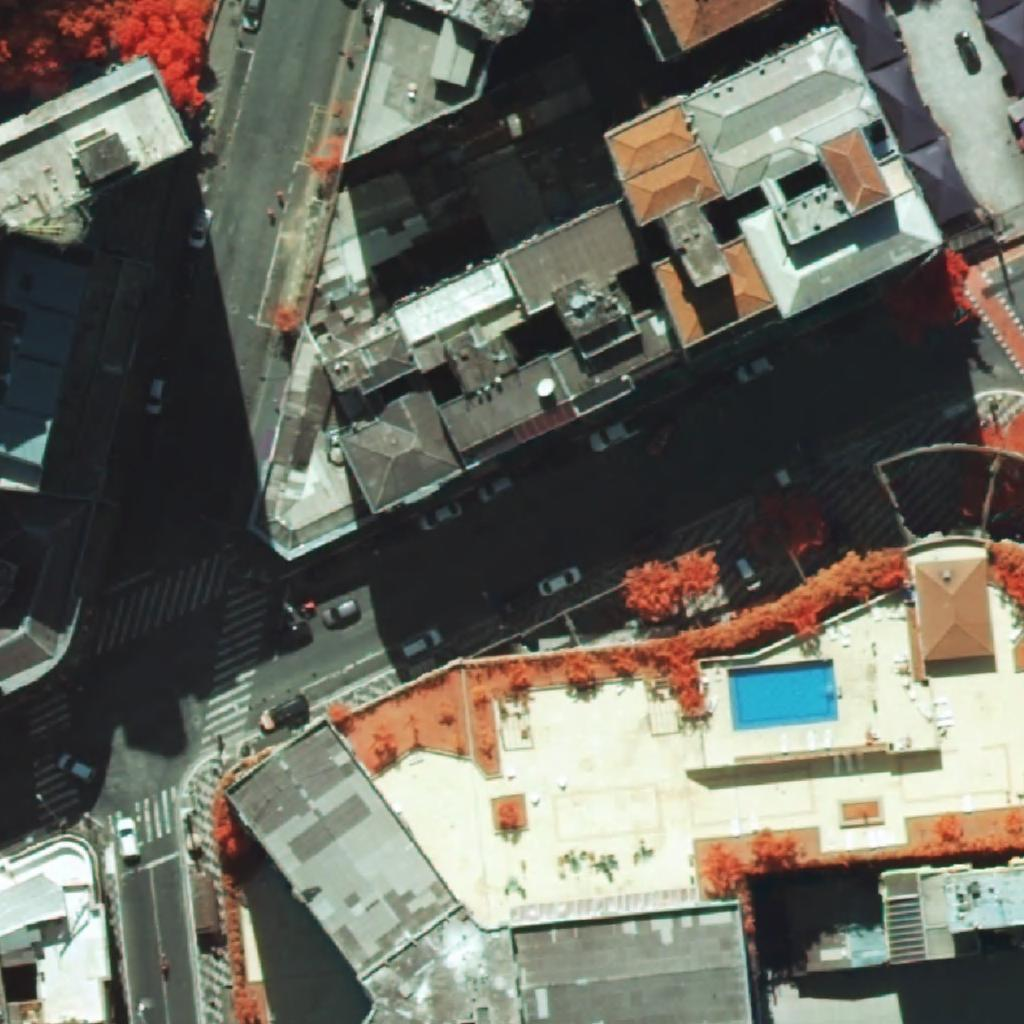pool: (729, 660, 838, 729)
